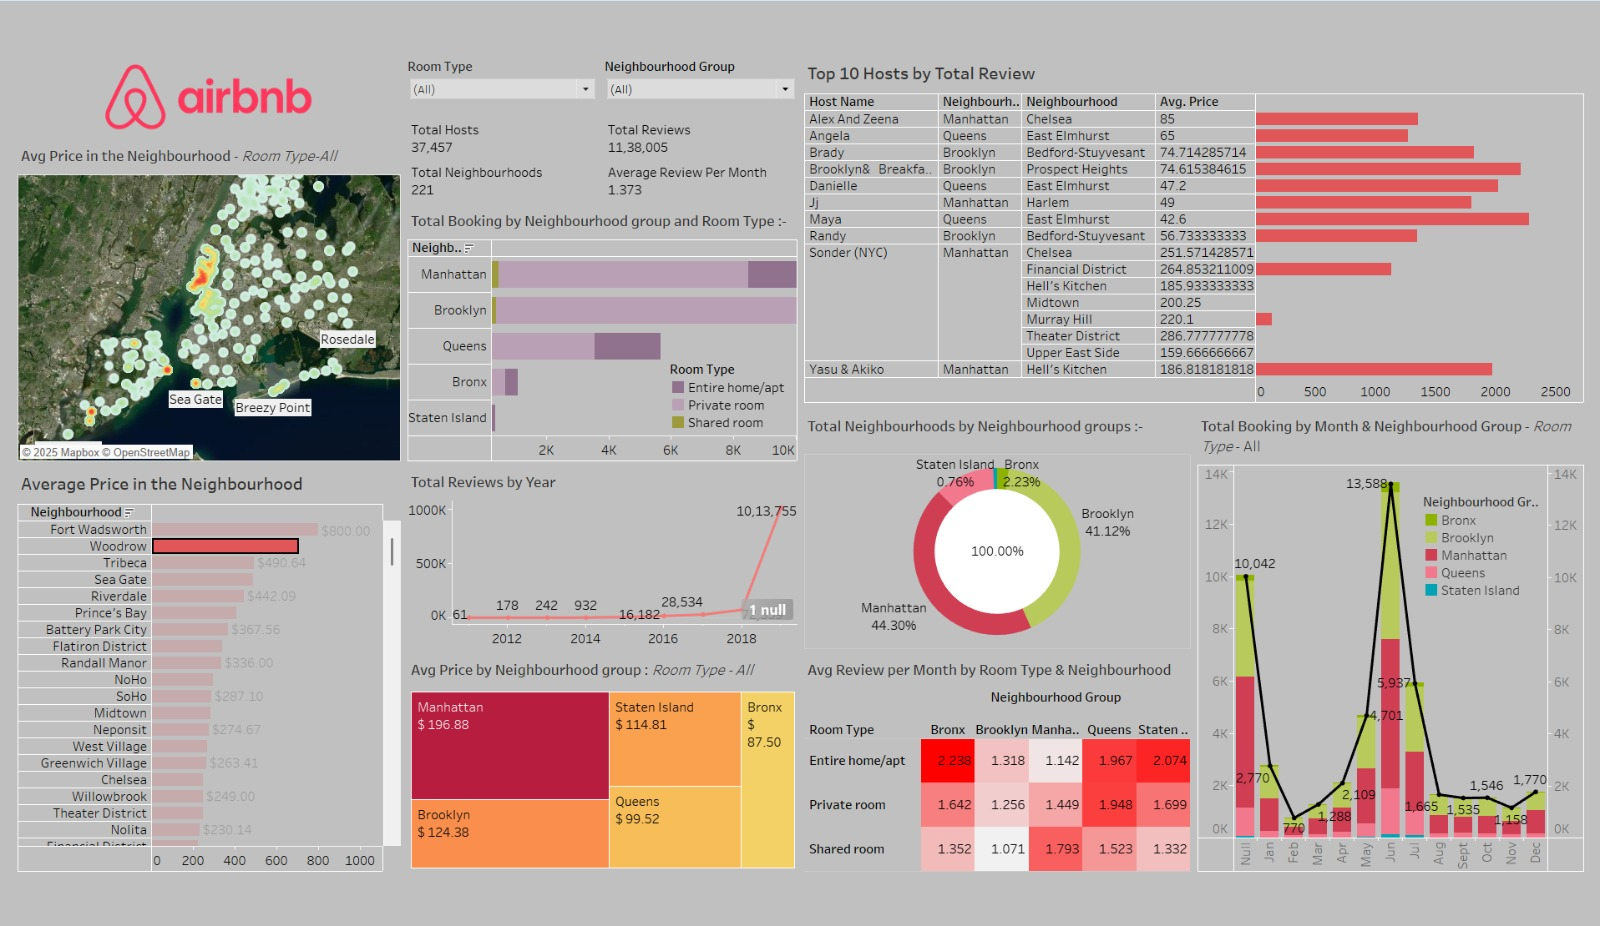

What the dashboard file says about the page in this screenshot:
{"tool":"tableau","page":{"name":"Dashboard 1","canvas":[1900,1000],"ordinal":0},"visuals":[{"type":"image","param":"C:/Users/rites/Downloads/image-removebg-preview.png","box":[8,8,467,101]},{"type":"filter","title":"Total Booking","param":"[federated.1idxphq1v8d2gh0zwwkcd1pr1yjq].[none:room_type:nk]","box":[475,8,236,76]},{"type":"filter","title":"Avg Price Neighbourhood","param":"[federated.1idxphq1v8d2gh0zwwkcd1pr1yjq].[none:neighbourhood_group:nk]","box":[711,8,239,76]},{"type":"worksheet","title":"Top 10 Hosts","mark":"Automatic","rows":["host_name","neighbourhood_group","neighbourhood","price"],"cols":["number_of_reviews"],"box":[950,8,942,425]},{"type":"worksheet","title":"Sheet 10","mark":"Automatic","box":[475,84,236,51]},{"type":"worksheet","title":"Sheet 12","mark":"Automatic","box":[711,84,239,51]},{"type":"worksheet","title":"Avg Price for each Room","mark":"Heatmap","rows":["latitude"],"cols":["longitude"],"box":[8,109,467,391]},{"type":"worksheet","title":"Sheet 11","mark":"Automatic","box":[475,135,236,52]},{"type":"worksheet","title":"Sheet 13","mark":"Automatic","box":[711,135,239,52]},{"type":"worksheet","title":"Total Booking by Neigh and Room Type","mark":"Automatic","rows":["neighbourhood_group"],"cols":["name"],"box":[475,187,475,313]},{"type":"legend","title":"Total Booking by Neigh and Room Type","param":"[federated.1idxphq1v8d2gh0zwwkcd1pr1yjq].[none:room_type:nk]","box":[793,375,165,91]},{"type":"worksheet","title":"Donut chart","mark":"Pie","rows":["Calculation_2149342940047712257","Calculation_2149342940047712257"],"box":[950,433,471,292]},{"type":"worksheet","title":"Total Booking","mark":"Bar","rows":["name","name"],"cols":["last_review"],"box":[1421,433,471,559]},{"type":"worksheet","title":"Avg Price Neighbourhood","mark":"Automatic","rows":["neighbourhood"],"cols":["price"],"box":[8,500,467,492]},{"type":"worksheet","title":"Total Reviews by Year","mark":"Automatic","rows":["number_of_reviews"],"cols":["last_review"],"box":[475,500,475,225]},{"type":"legend","title":"Total Booking","param":"[federated.1idxphq1v8d2gh0zwwkcd1pr1yjq].[none:neighbourhood_group:nk]","box":[1695,534,140,127]},{"type":"worksheet","title":"Avg Price Room Type","mark":"Automatic","box":[475,725,475,267]},{"type":"worksheet","title":"Avg Review per month","mark":"Square","rows":["room_type"],"cols":["neighbourhood_group"],"box":[950,725,471,267]}]}

Visuals, with their boxes on the page's 1900x1000 design canvas (x1, y1, x2, y2). These are canvas units, not pixel positions in the 1600x926 screenshot, which may show the page scaled, cropped or inside an application window:
image: [8, 8, 475, 109]
"Total Booking" filter: [475, 8, 711, 84]
"Avg Price Neighbourhood" filter: [711, 8, 950, 84]
"Top 10 Hosts" worksheet: [950, 8, 1892, 433]
"Sheet 10" worksheet: [475, 84, 711, 135]
"Sheet 12" worksheet: [711, 84, 950, 135]
"Avg Price for each Room" worksheet (Heatmap marks): [8, 109, 475, 500]
"Sheet 11" worksheet: [475, 135, 711, 187]
"Sheet 13" worksheet: [711, 135, 950, 187]
"Total Booking by Neigh and Room Type" worksheet: [475, 187, 950, 500]
"Total Booking by Neigh and Room Type" legend: [793, 375, 958, 466]
"Donut chart" worksheet (Pie marks): [950, 433, 1421, 725]
"Total Booking" worksheet (Bar marks): [1421, 433, 1892, 992]
"Avg Price Neighbourhood" worksheet: [8, 500, 475, 992]
"Total Reviews by Year" worksheet: [475, 500, 950, 725]
"Total Booking" legend: [1695, 534, 1835, 661]
"Avg Price Room Type" worksheet: [475, 725, 950, 992]
"Avg Review per month" worksheet (Square marks): [950, 725, 1421, 992]
